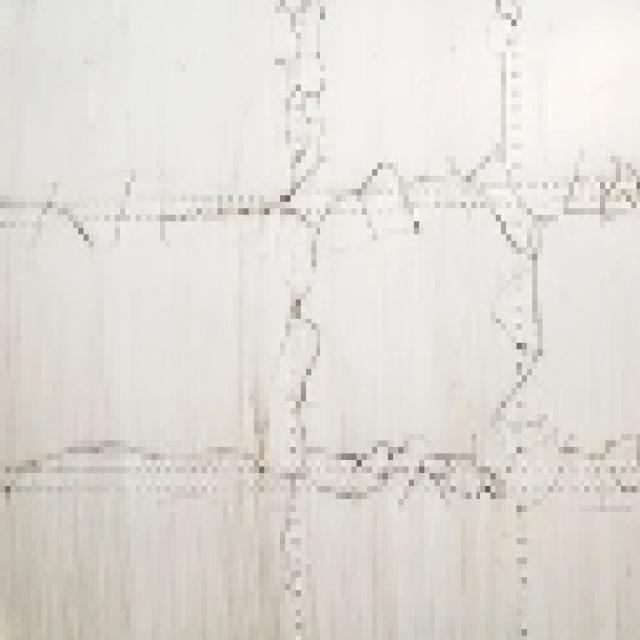crack: (277, 2, 329, 605), (491, 2, 547, 499)
